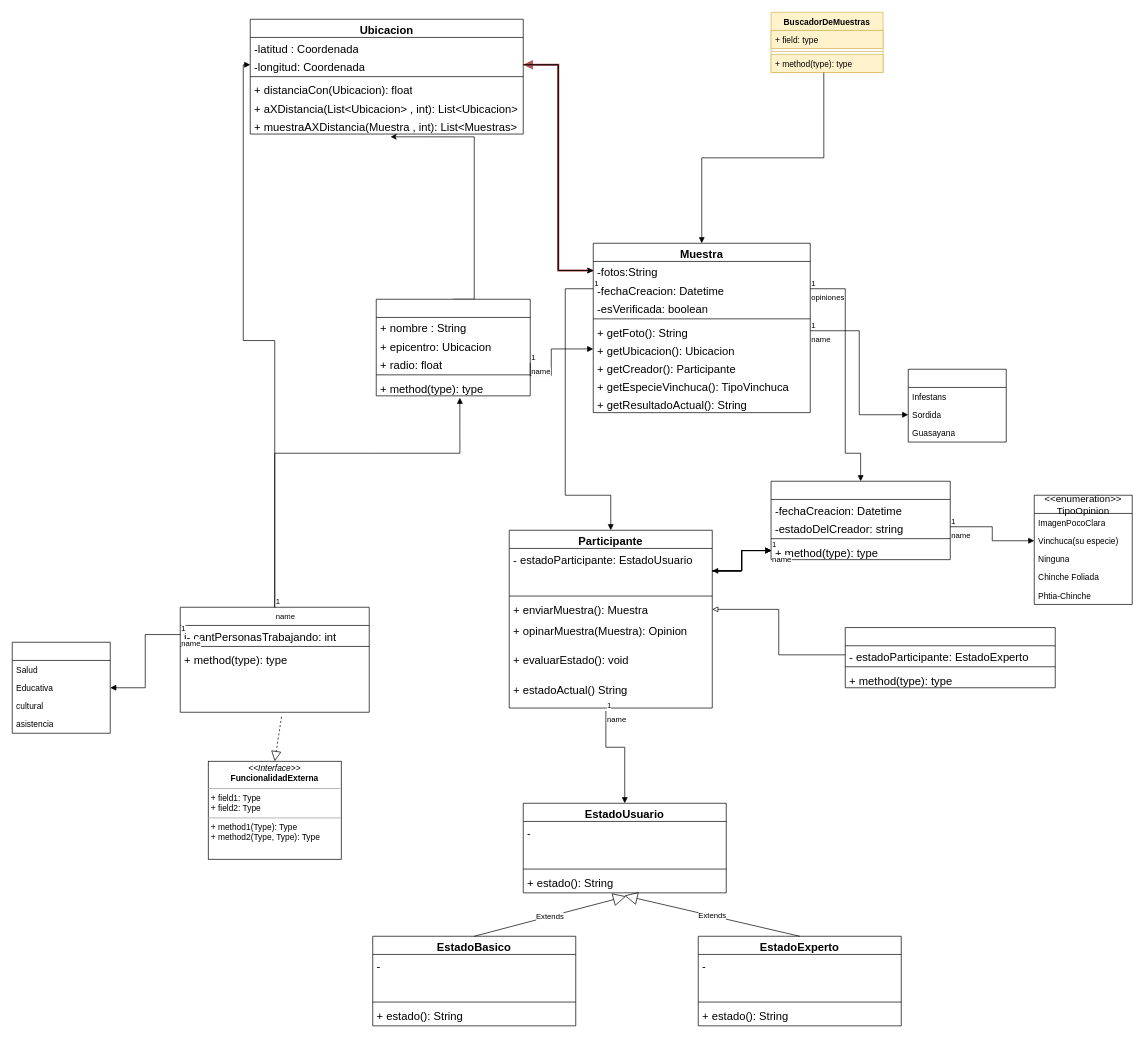
The diagram is 1145 pixels wide and 1040 high, and some of its shapes have lost their labels. The box of each missing label's shape, as (x1, y1, x2, y2) in pixels:
<<enumeration>> TiposOrganizaciones: (12, 642, 110, 733)
<<enumeration>> TipoVinchuca: (908, 369, 1006, 442)
Experto Externo: (845, 627, 1055, 688)
Opinion: (770, 481, 950, 560)
Organizacion: (180, 607, 369, 712)
ZonaDeCobertura: (376, 299, 530, 396)
